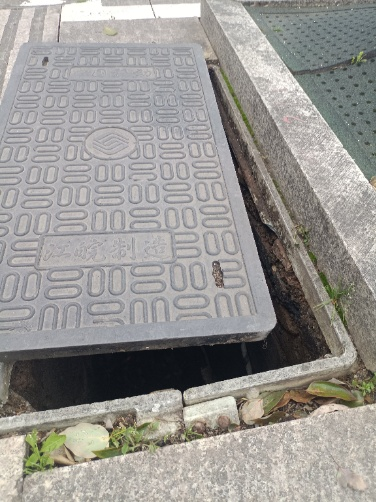uncovered: (1, 40, 359, 435)
